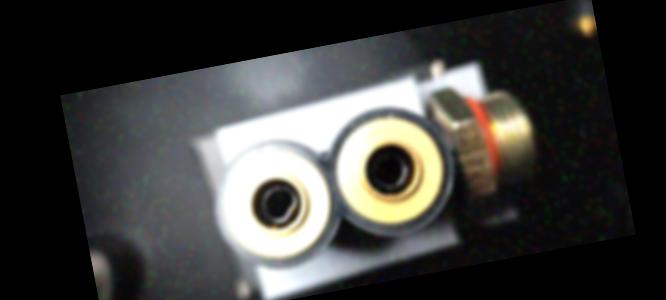off-centered: (254, 179, 301, 229)
